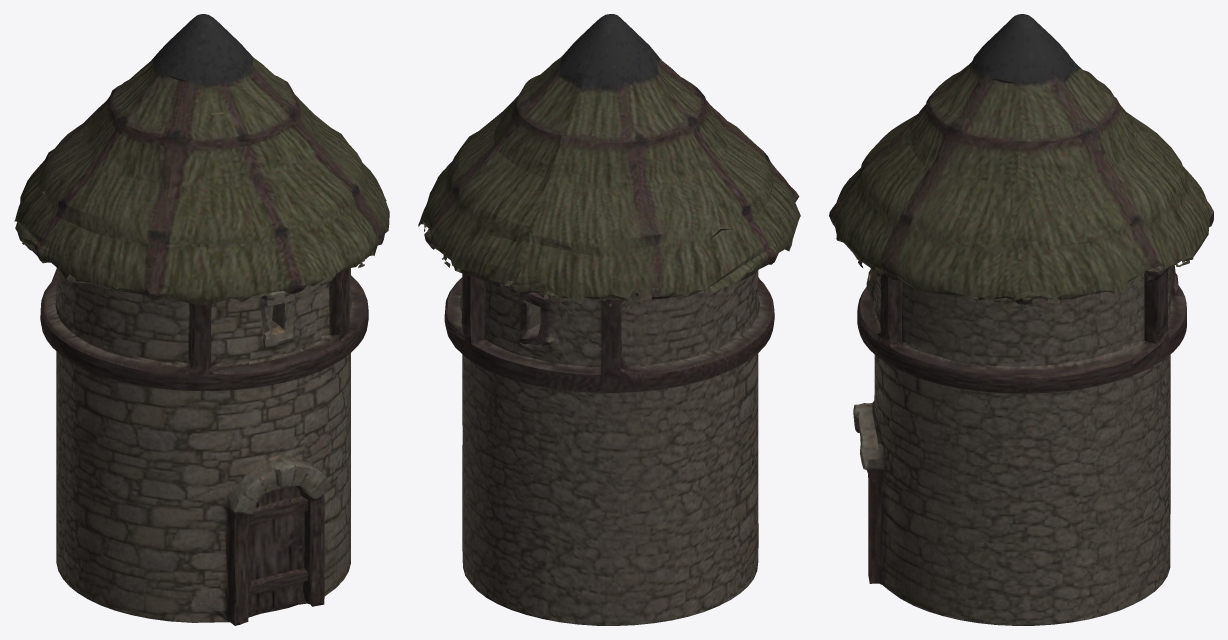
File: ok-farm-silo-pixelated.glb
3 renders of one model, left to right at view 1: azimuth 30°, elevation 25°; view 2: azimuth 150°, elevation 25°; view 3: azimuth 270°, elevation 25°, orthographic.
Visible parts, largest first — view 1: 0; view 2: 0; view 3: 0.
Boxes of the visible parts, bbox=[...] form: 0: bbox=[14, 14, 389, 625]; 0: bbox=[418, 14, 800, 625]; 0: bbox=[829, 14, 1213, 625].
Bounding box in the file's own units: 1.2 × 1.89 × 1.2.
1 material, 1 textured.
